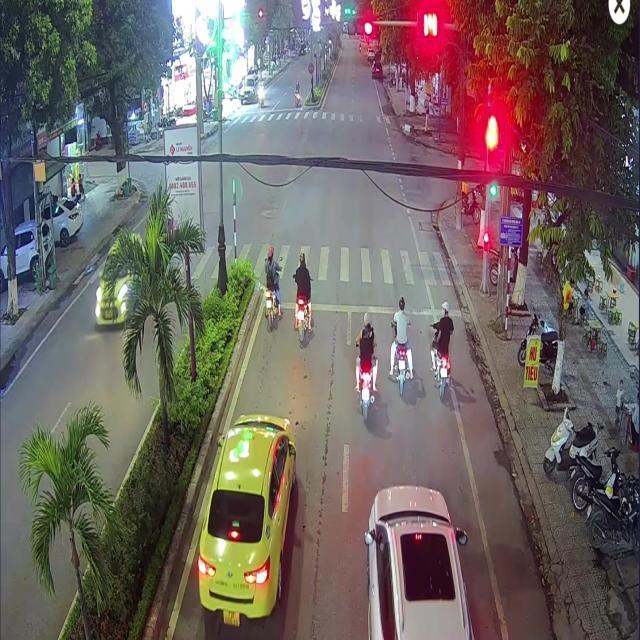car: (197, 412, 295, 617), (363, 485, 473, 638)
motobike: (389, 342, 412, 396), (355, 368, 374, 420), (293, 294, 311, 341), (433, 349, 448, 400), (264, 288, 278, 330)
red_light: (346, 15, 373, 36), (486, 135, 495, 168), (483, 236, 487, 254)
stop_line: (263, 299, 460, 315)
